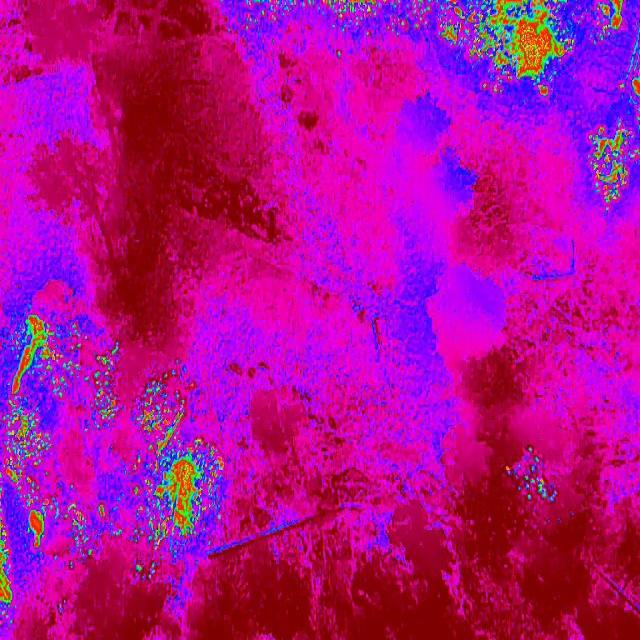fire: (0, 316, 118, 568), (117, 363, 228, 586), (242, 0, 640, 39), (448, 39, 578, 105), (586, 124, 640, 216), (508, 453, 558, 508), (617, 69, 640, 120), (0, 568, 18, 620)
